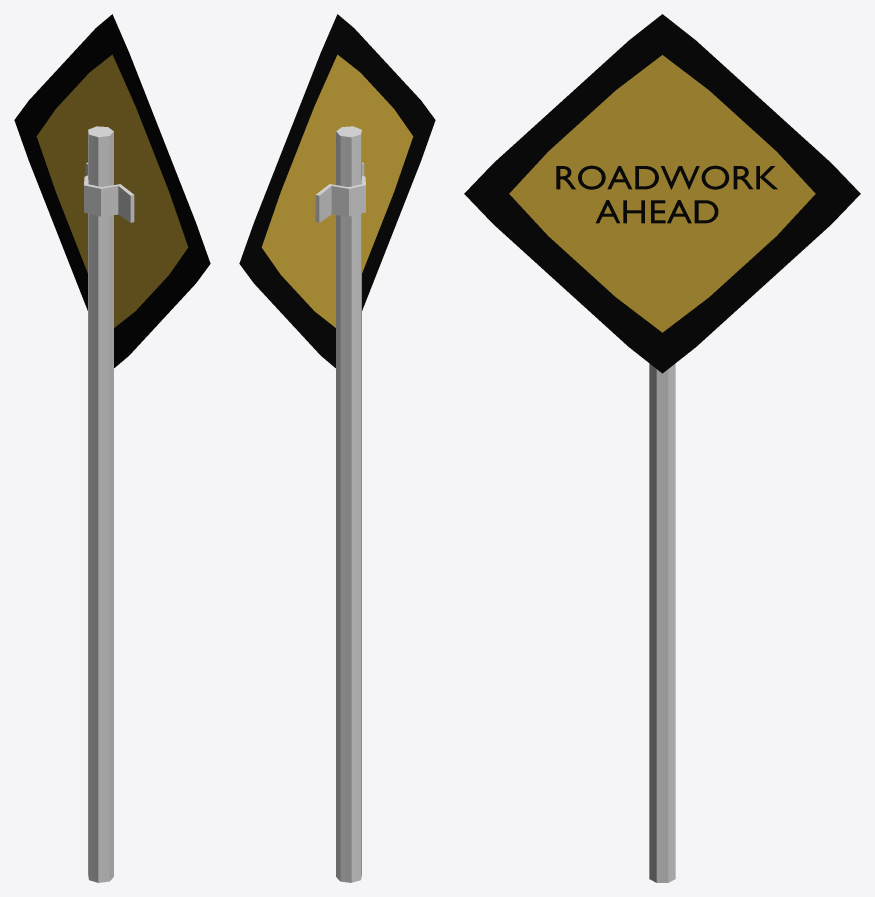
Rendered from surehopeitdoes.fbx.
3 renders of one model, left to right at view 1: azimuth 30°, elevation 25°; view 2: azimuth 150°, elevation 25°; view 3: azimuth 270°, elevation 25°, orthographic.
Parts seen in each view (by area): view 1: Cube.001; view 2: Cube.001; view 3: Cube.001, Text.
Part boxes in pixels (x1,y1,x2,y2): Cube.001: [14, 14, 210, 882]; Cube.001: [239, 14, 435, 882]; Cube.001: [464, 14, 860, 882]; Text: [556, 165, 777, 223].
Size of the model in its own units: 78.61 by 1952 by 807.
